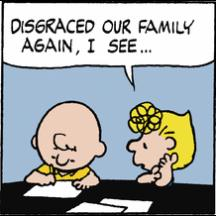charlie: (23, 100, 110, 190)
